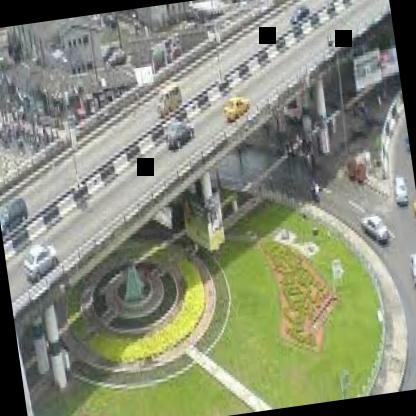car: (150, 103, 206, 167), (0, 183, 39, 239), (18, 239, 63, 285), (356, 200, 392, 254), (222, 84, 255, 128), (282, 0, 318, 30), (392, 169, 414, 214), (402, 240, 416, 295)
